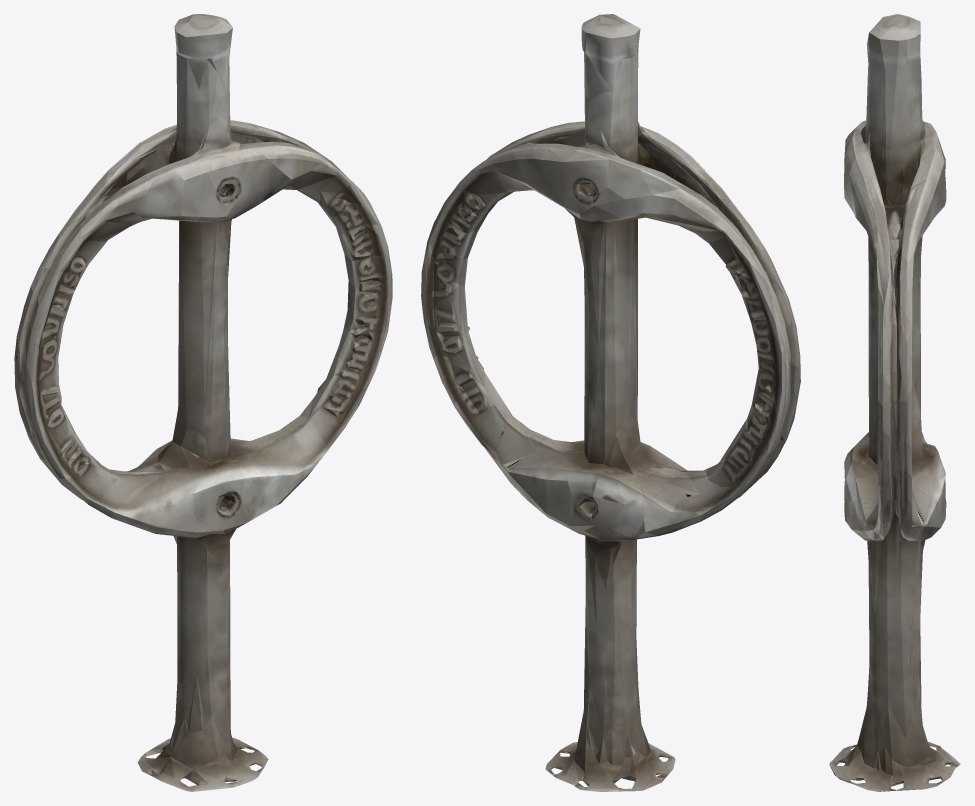
Rendered from bike-ring.glb.
3 views of the same model, side by side, from view 1: azimuth 30°, elevation 25°; view 2: azimuth 150°, elevation 25°; view 3: azimuth 270°, elevation 25° (orthographic).
Parts seen in each view (by area): view 1: output_unwrapped; view 2: output_unwrapped; view 3: output_unwrapped.
Part boxes in pixels (left/top/right/bottom): output_unwrapped: left=14, top=14, right=392, bottom=791; output_unwrapped: left=421, top=14, right=800, bottom=791; output_unwrapped: left=829, top=14, right=960, bottom=791.
Size of the model in its own units: 0.4823 by 0.94 by 0.15.
1 material, 1 textured.
